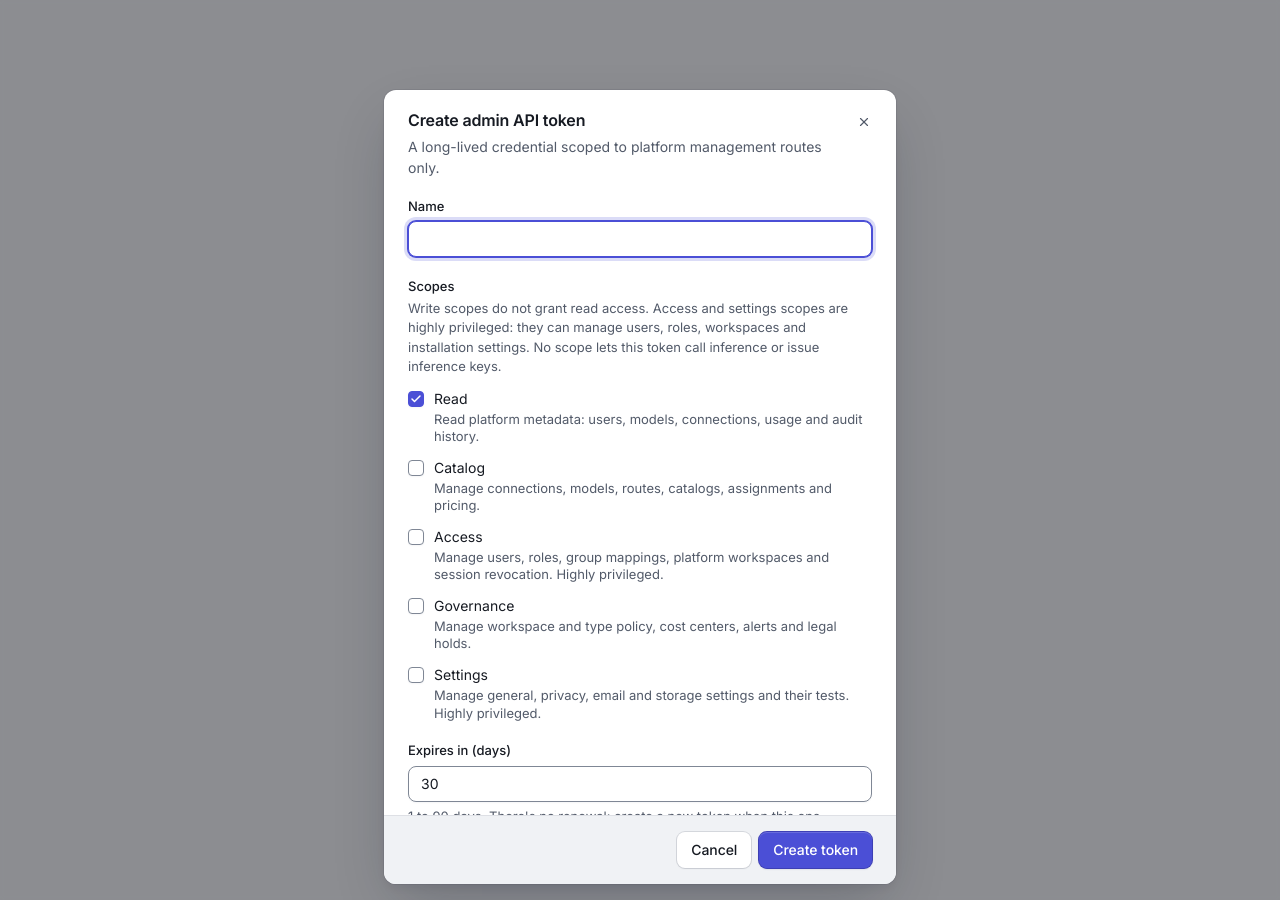
Test: CreateAdminTokenDialog submit lifetime › allows a retired owner to close after its aborted request settles without disclosing
Step 1. Type "CI publisher" into the field labelled "Name" → (640, 239), box [408,221,872,257]
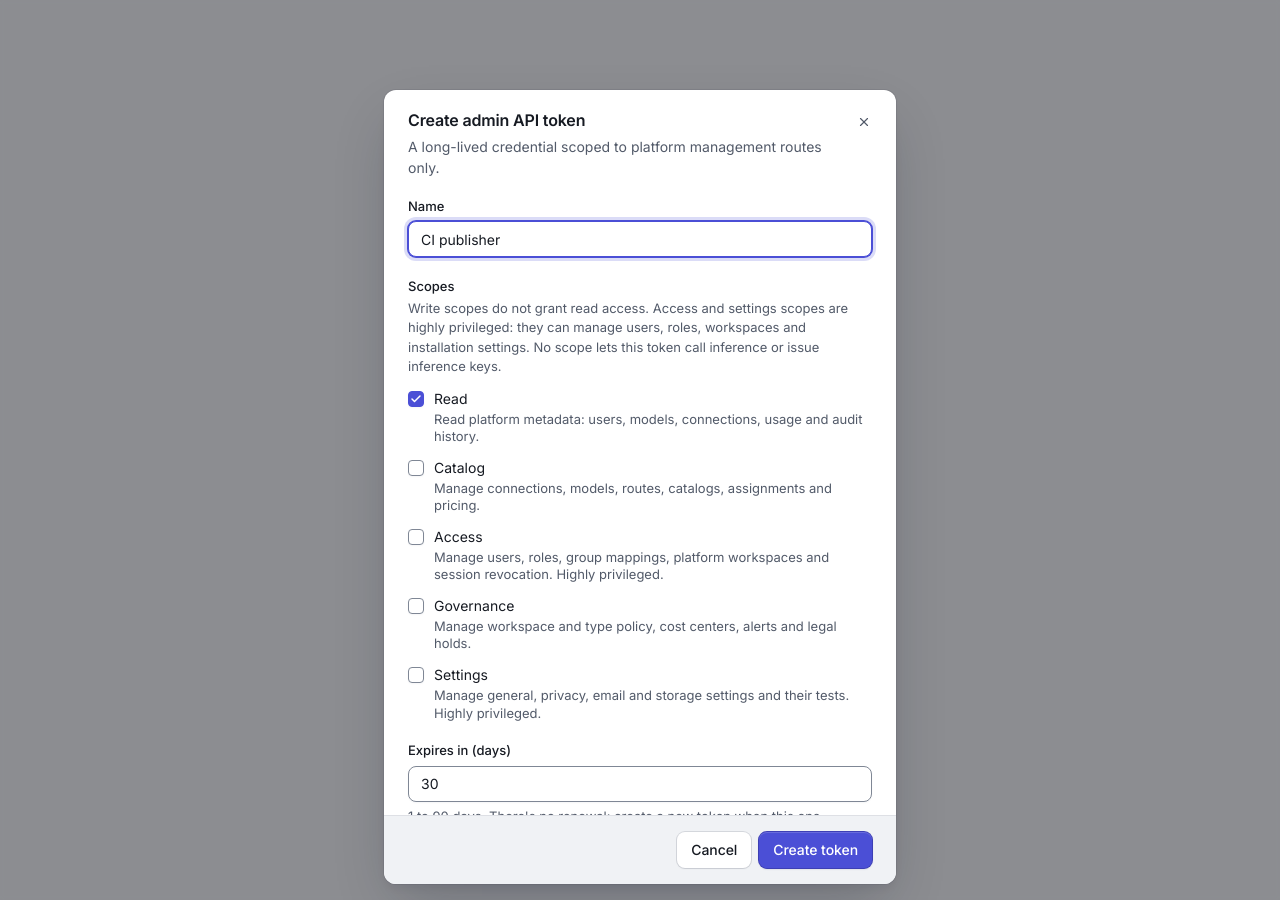
Step 2. Click the button "Create token" → (816, 850), box [759,832,872,868]
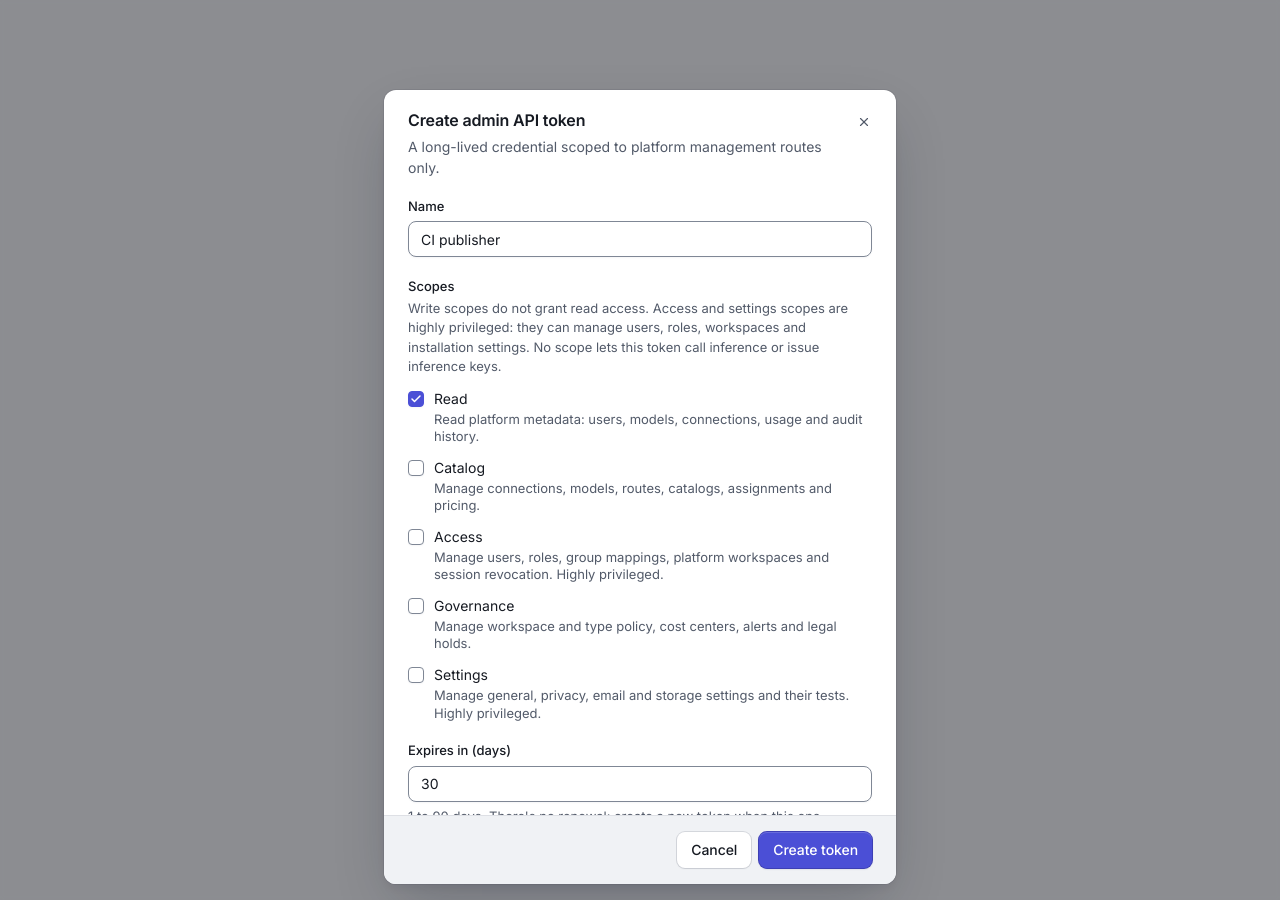
Step 3. Click the button "Cancel" → (714, 850), box [677,832,751,868]
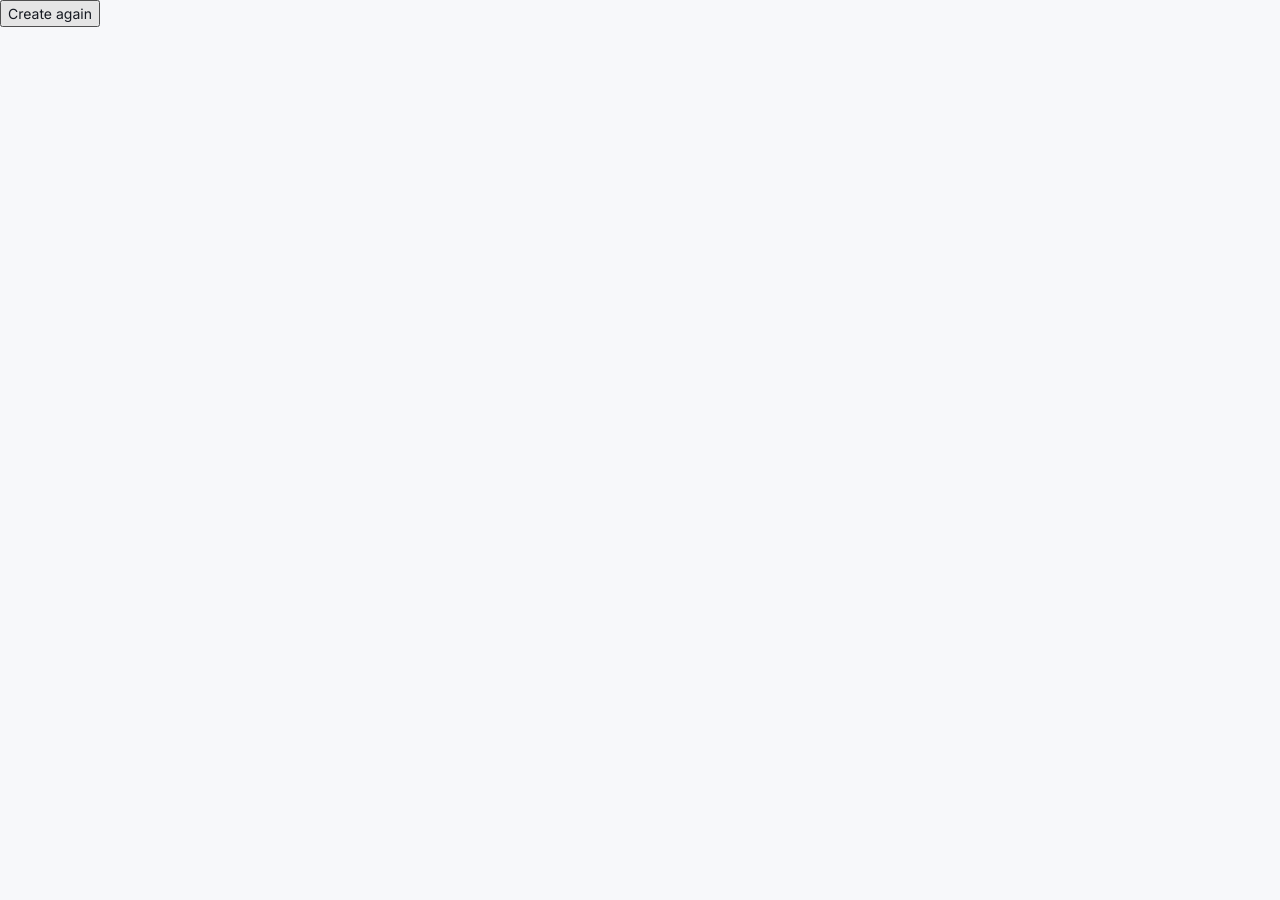
Check: the dialog is gone
